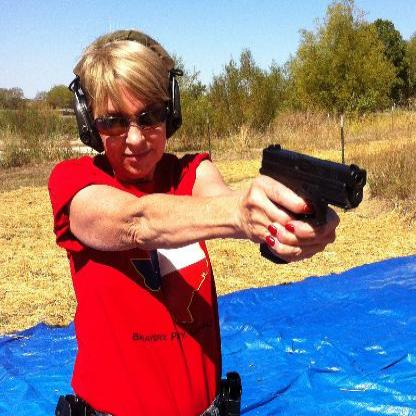pistol: (256, 142, 368, 261)
